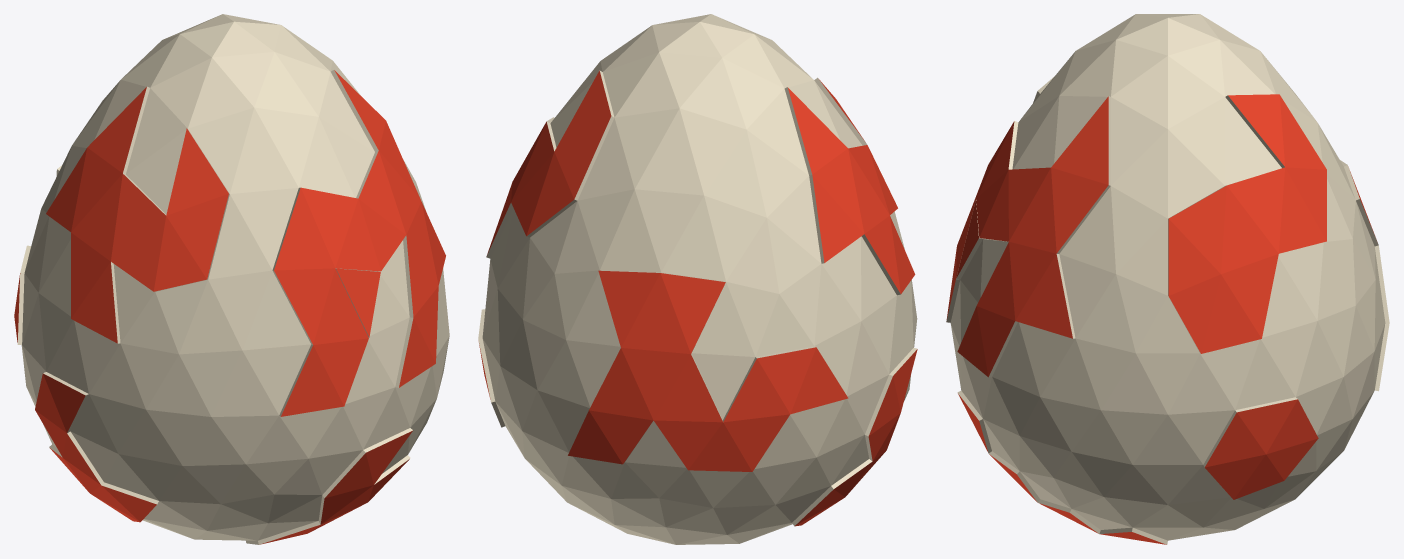
The model's file is egg.gltf.
3 views of the same model, side by side, from view 1: azimuth 30°, elevation 25°; view 2: azimuth 150°, elevation 25°; view 3: azimuth 270°, elevation 25° (orthographic).
Parts seen in each view (by area): view 1: Icosphere; view 2: Icosphere; view 3: Icosphere.
Part boxes in pixels (x1,y1,x2,y2): Icosphere: (14, 14, 449, 544); Icosphere: (478, 14, 917, 544); Icosphere: (946, 14, 1389, 544).
Size of the model in its own units: 2.01 by 2.53 by 2.03.
